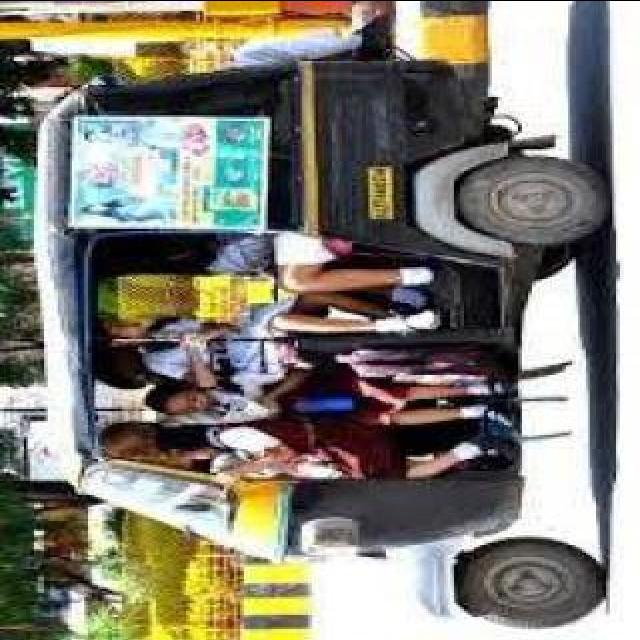Autorickshaw: (40, 40, 588, 578)
